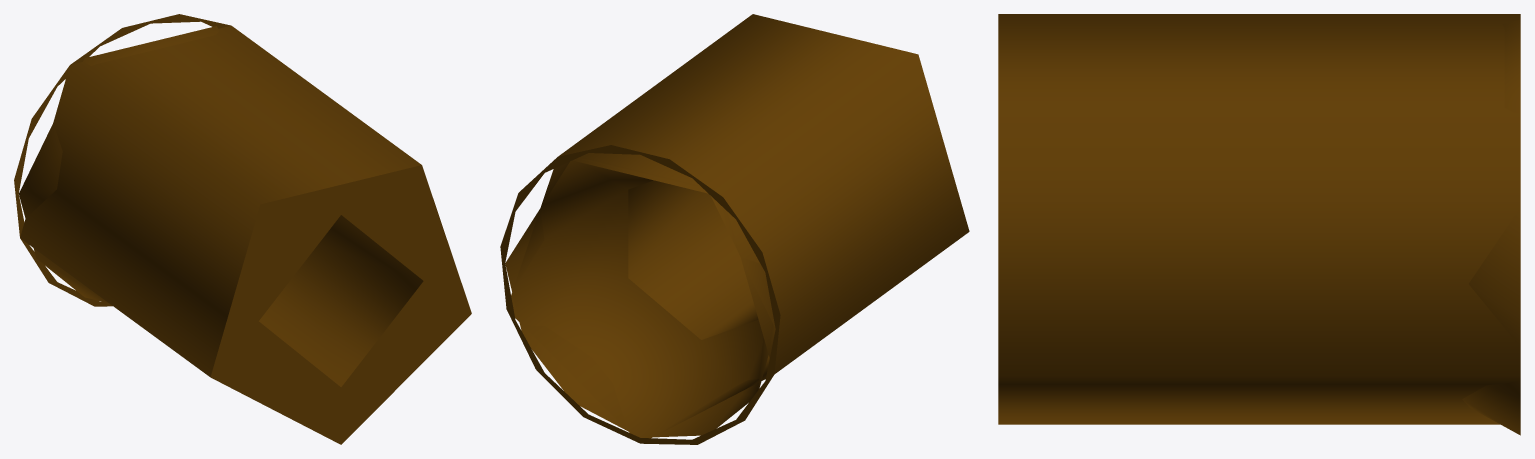
Rendered from Pallier_Ext 5_Int 3 Huilier_instance_4.obj.
3 views of the same model, side by side, from view 1: azimuth 30°, elevation 25°; view 2: azimuth 150°, elevation 25°; view 3: azimuth 270°, elevation 25° (orthographic). The views are drawn at different scales.
Parts seen in each view (by area): view 1: Face_4, Face_1, Face_5, Face_2, Face_3; view 2: Face_4, Face_2, Face_5, Face_3; view 3: Face_4, Face_2.
Part boxes in pixels (left/top/right/bottom): Face_4: left=20, top=25, right=421, bottom=377; Face_1: left=210, top=165, right=471, bottom=444; Face_5: left=259, top=215, right=423, bottom=386; Face_2: left=19, top=26, right=219, bottom=303; Face_3: left=14, top=14, right=230, bottom=306; Face_4: left=511, top=14, right=969, bottom=438; Face_2: left=505, top=157, right=775, bottom=437; Face_5: left=628, top=180, right=758, bottom=339; Face_3: left=500, top=145, right=780, bottom=444; Face_4: left=998, top=14, right=1520, bottom=424; Face_2: left=1462, top=19, right=1520, bottom=435.
Bounding box in the file's own units: 0.00497 × 0.00495 × 0.006.
